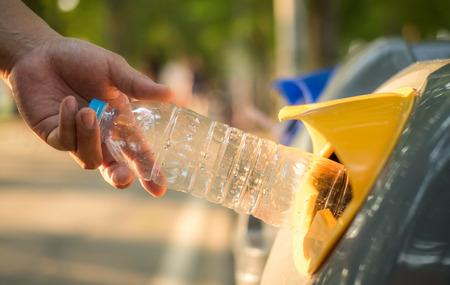paper: (71, 79, 360, 248)
